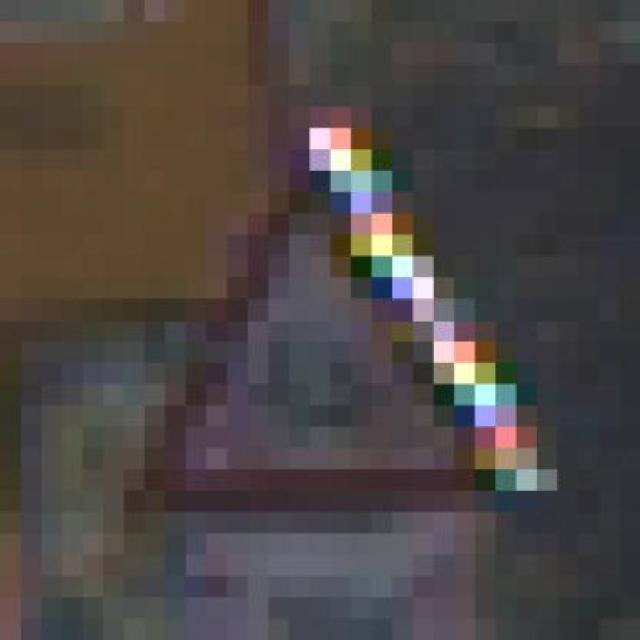CYCLE ROUTE AHEAD WARNING: (20, 106, 578, 534)
